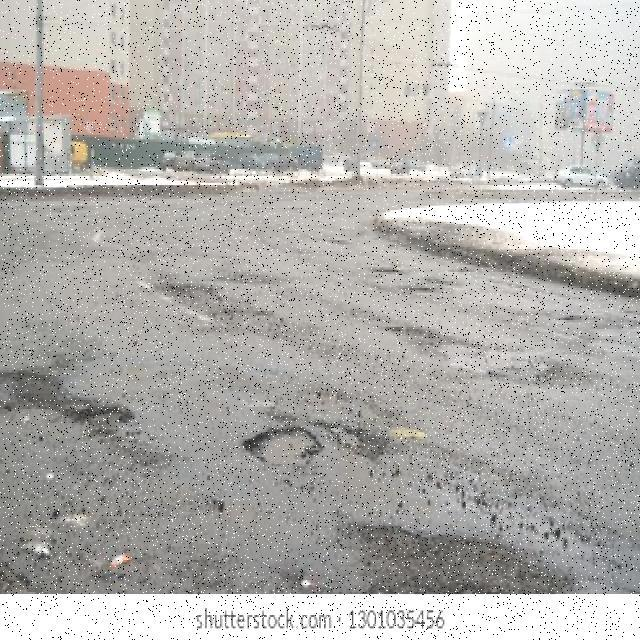Pothole: (243, 429, 324, 463)
